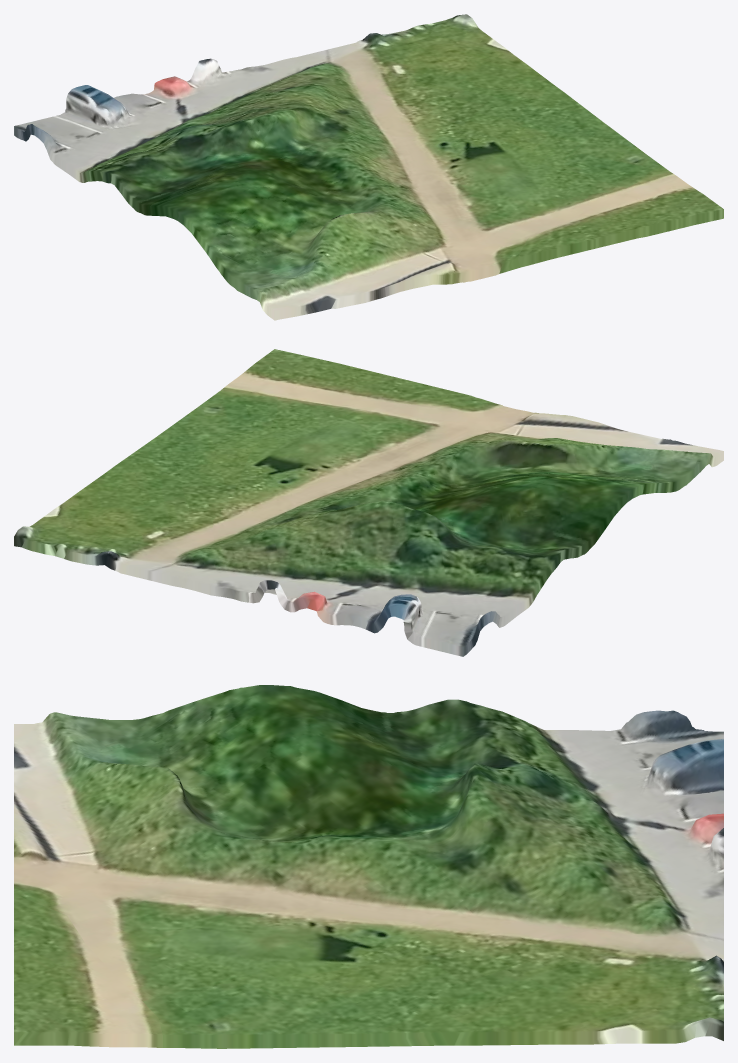
The model's file is z20-167566-405174-h0-yup-uvflip-v3-world.glb.
The picture shows the model from 3 angles, top to bottom: view 1: azimuth 30°, elevation 25°; view 2: azimuth 150°, elevation 25°; view 3: azimuth 270°, elevation 25°; orthographic projection. The views are drawn at different scales.
Bounding box in the file's own units: 30.16 × 3.32 × 30.32.
1 material, 1 textured.
